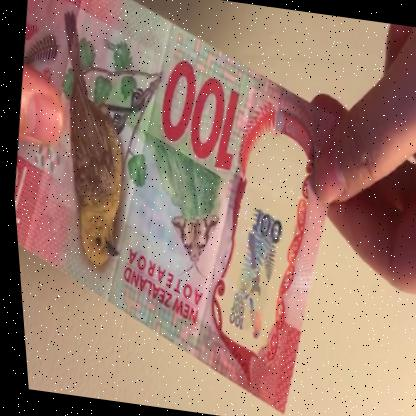100B: (209, 169, 293, 344)
